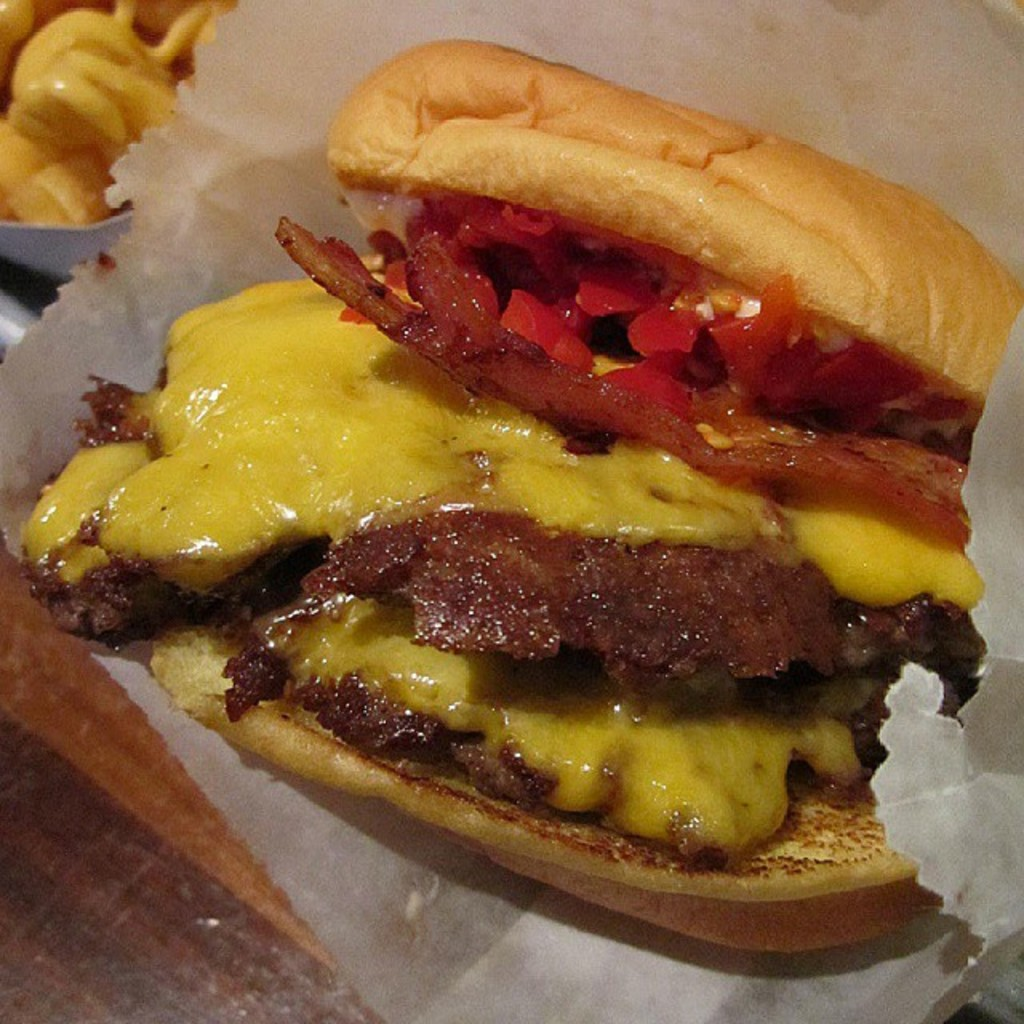Hamburger: (20, 36, 1022, 950)
